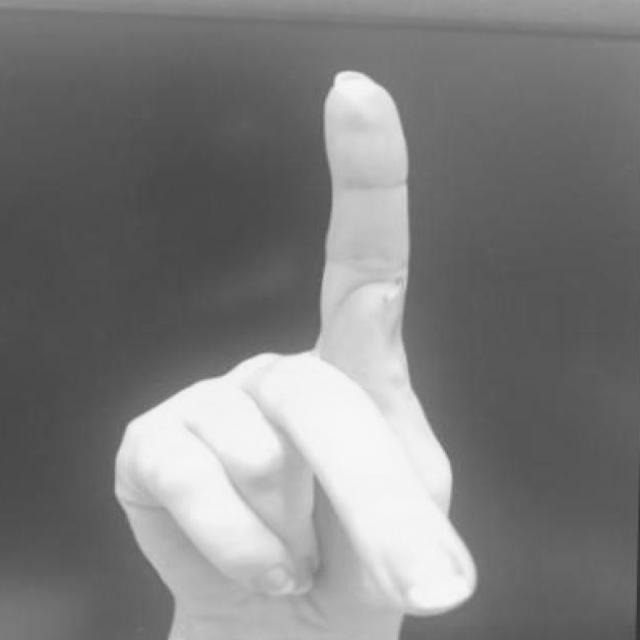P: (101, 57, 517, 640)
